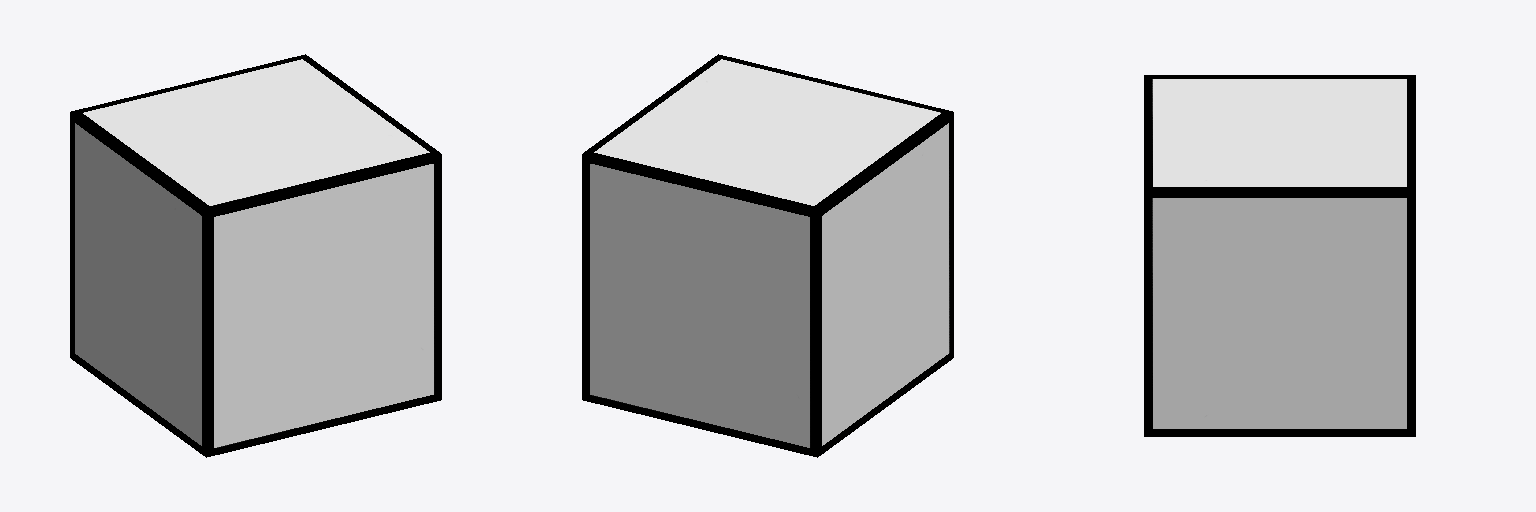
3 views of the same model, side by side, from view 1: azimuth 30°, elevation 25°; view 2: azimuth 150°, elevation 25°; view 3: azimuth 270°, elevation 25° (orthographic).
Visible parts, largest first — view 1: Cube; view 2: Cube; view 3: Cube.
Part boxes in pixels (x1,y1,x2,y2): Cube: (70, 54, 441, 457); Cube: (582, 54, 953, 457); Cube: (1144, 75, 1415, 436).
Size of the model in its own units: 1 by 1 by 1.
Materials: 1 (1 with a texture image).